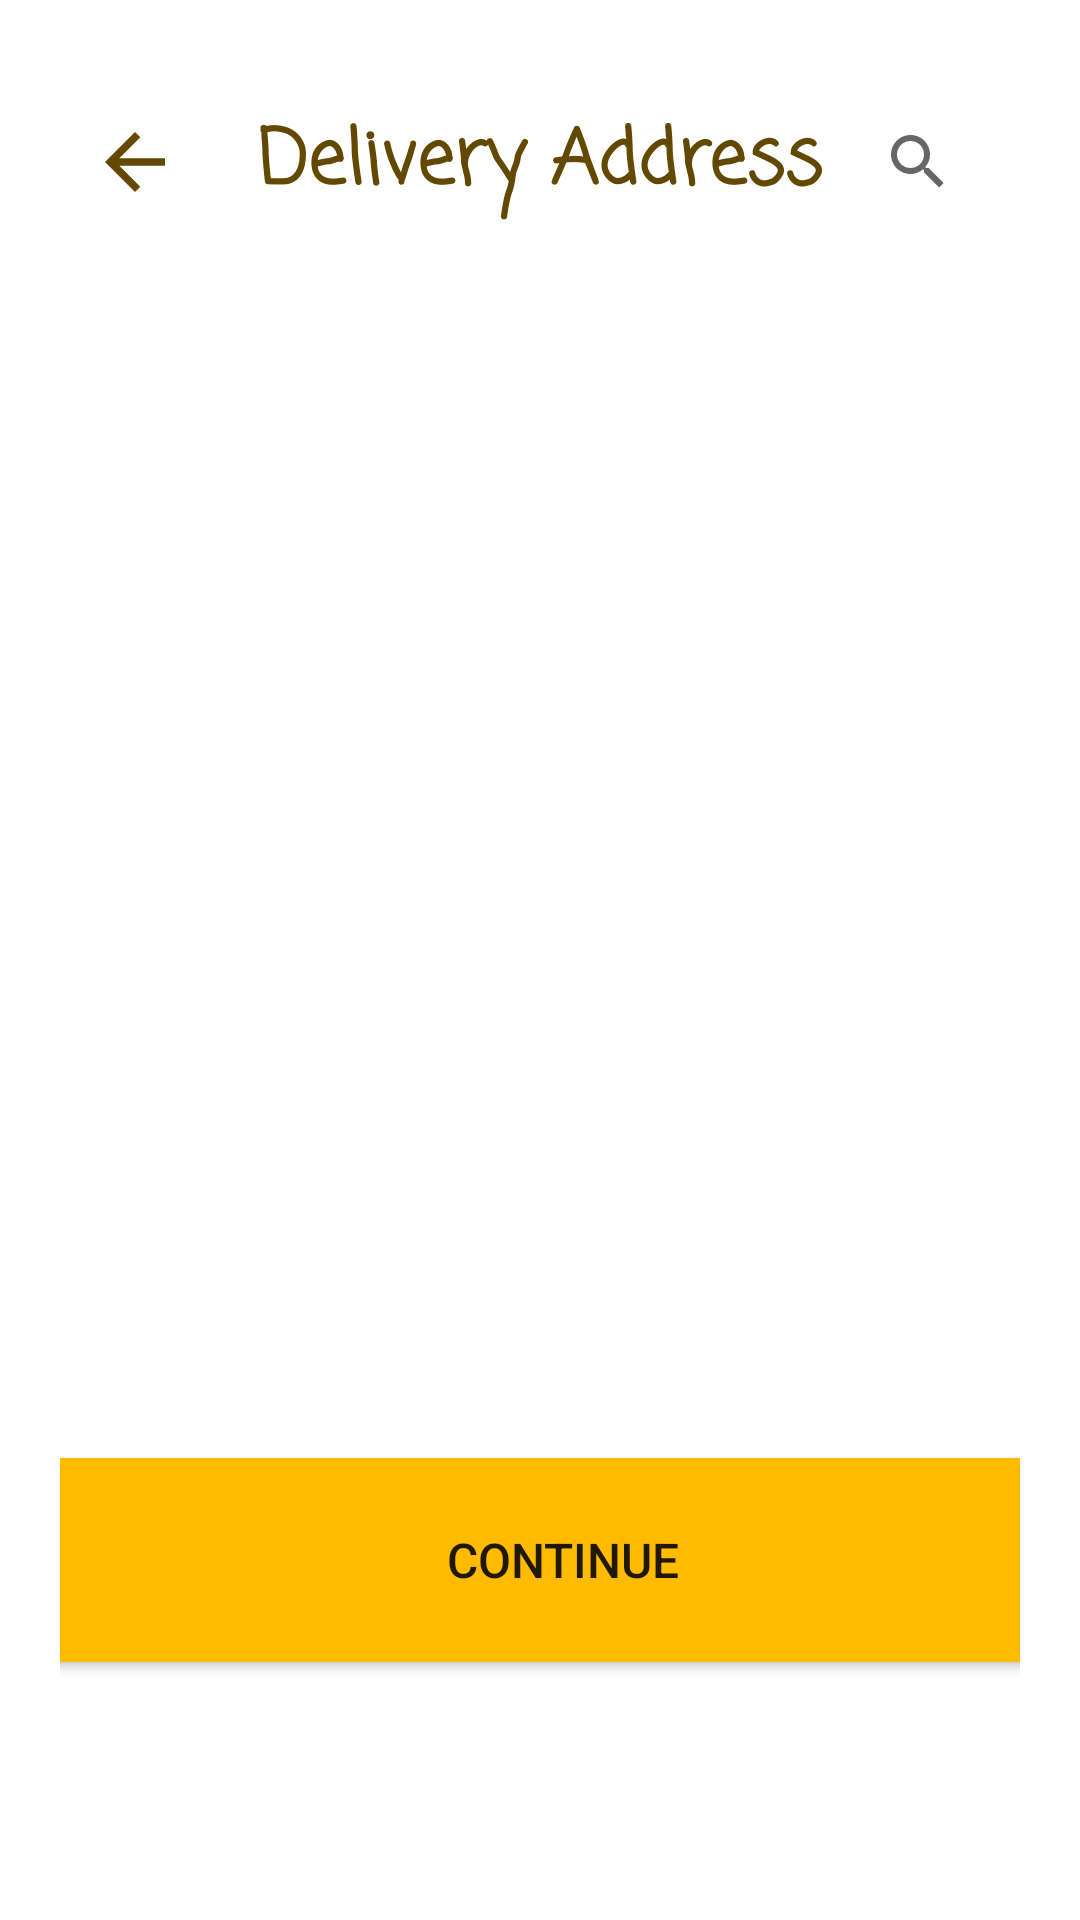

Screen size 1080 x 1920. Icon name, then its center in pixels as [x,y]:
arrow back: [135,162]
